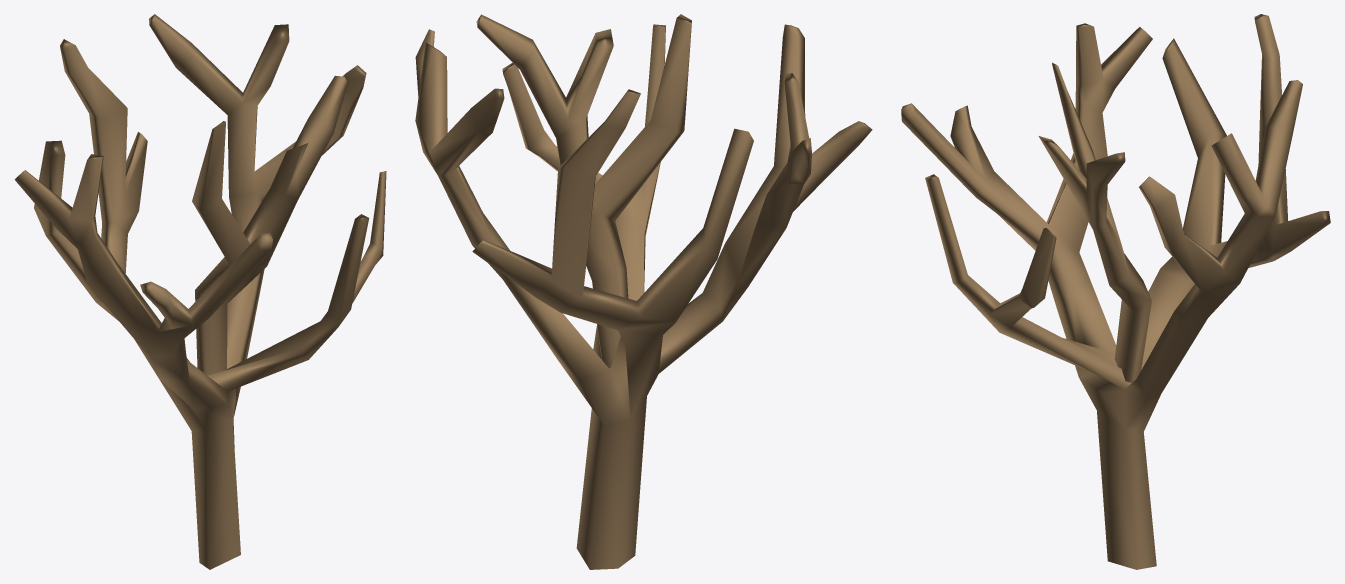
Rendered from Bush_B.fbx.
3 views of the same model, side by side, from view 1: azimuth 30°, elevation 25°; view 2: azimuth 150°, elevation 25°; view 3: azimuth 270°, elevation 25° (orthographic). The views are drawn at different scales.
Parts seen in each view (by area): view 1: Bush_B; view 2: Bush_B; view 3: Bush_B.
Part boxes in pixels (left/top/right/bottom): Bush_B: left=14, top=14, right=386, bottom=569; Bush_B: left=415, top=14, right=872, bottom=569; Bush_B: left=901, top=14, right=1330, bottom=569.
Size of the model in its own units: 103 by 138 by 105.
